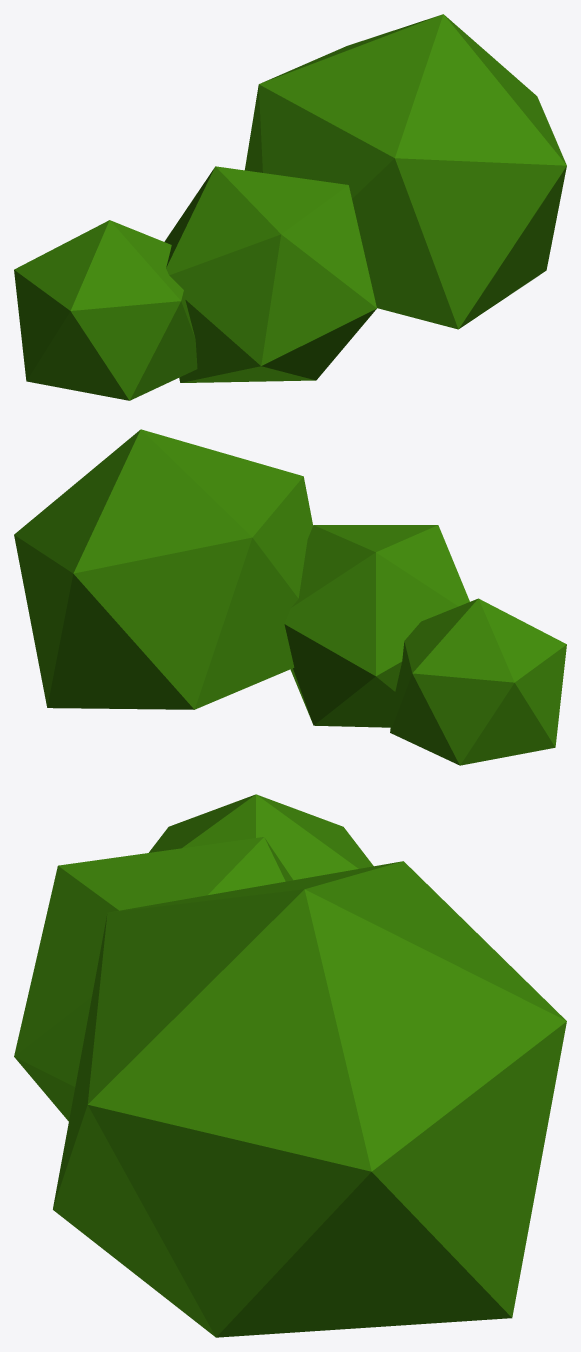
Rendered from Bush_e_02.fbx.
3 renders of one model, top to bottom at view 1: azimuth 30°, elevation 25°; view 2: azimuth 150°, elevation 25°; view 3: azimuth 270°, elevation 25°, orthographic. The views are drawn at different scales.
Visible parts, largest first — view 1: Bush_e_02_LOD0; view 2: Bush_e_02_LOD0; view 3: Bush_e_02_LOD0.
Part boxes in pixels (box(x1,y1,x2,y2)): Bush_e_02_LOD0: box(14, 14, 566, 400); Bush_e_02_LOD0: box(14, 429, 566, 765); Bush_e_02_LOD0: box(14, 794, 566, 1337).
Size of what is drawn, in the model's own units: 47.3 by 22.86 by 26.72.
